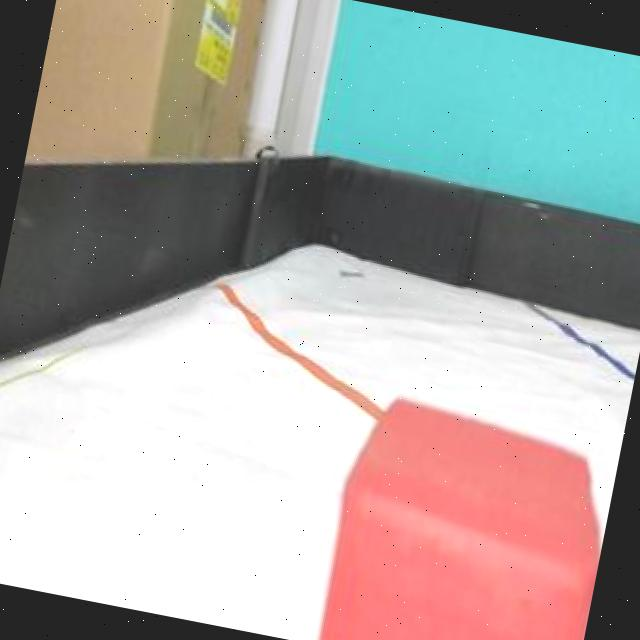redbox: (309, 386, 623, 640)
